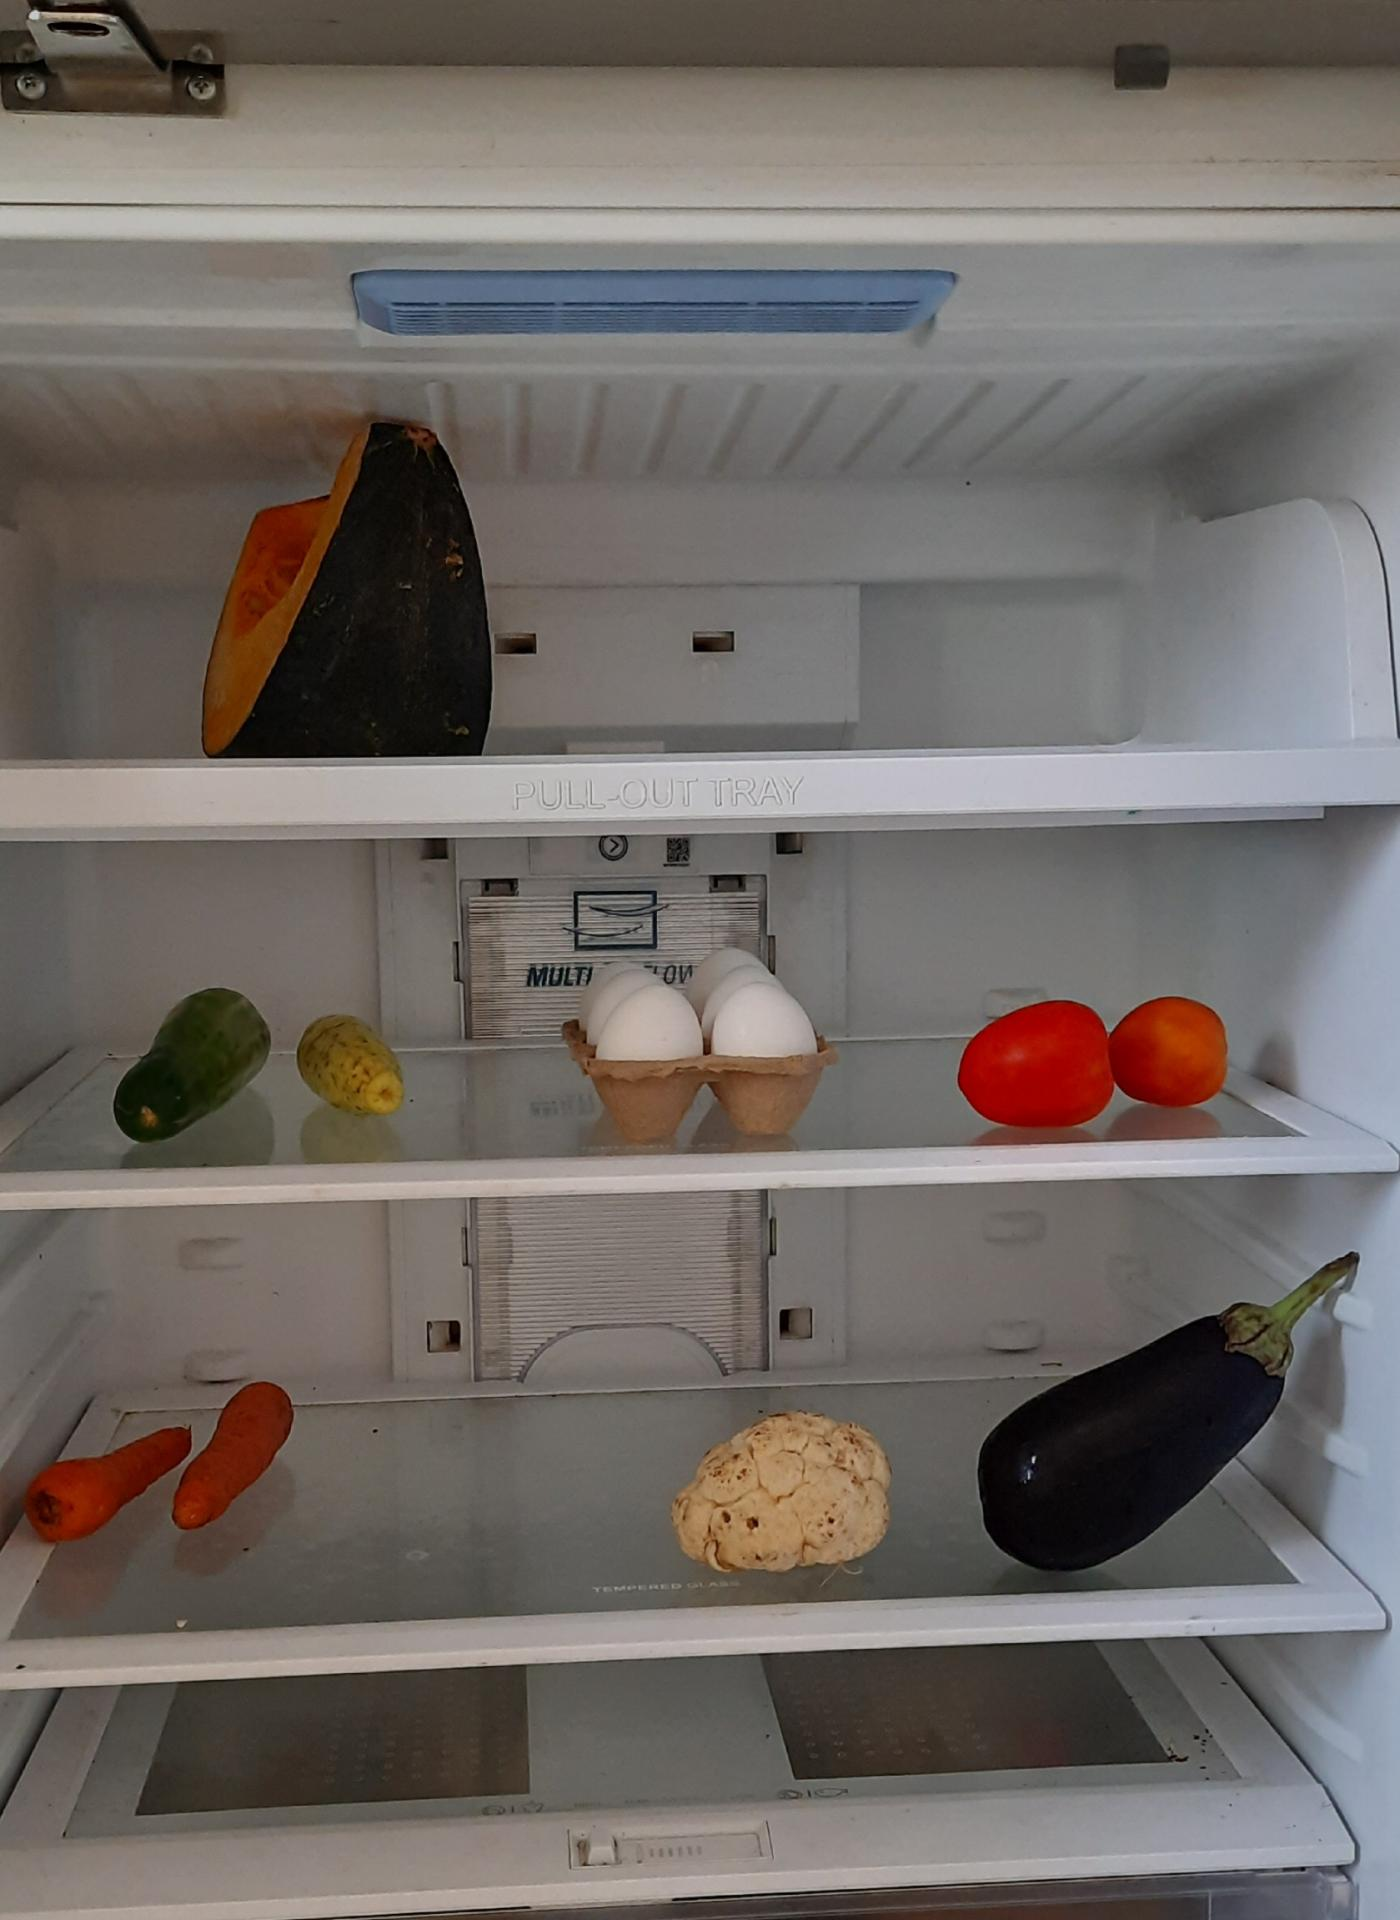brinjal: (968, 1254, 1351, 1573)
carrots: (0, 1357, 288, 1537)
cauliflower: (663, 1404, 892, 1576)
cucumber: (110, 976, 274, 1142), (300, 1006, 412, 1115)
egg: (568, 938, 829, 1130)
pumpkin: (194, 398, 504, 747)
tomato: (962, 991, 1239, 1125)
